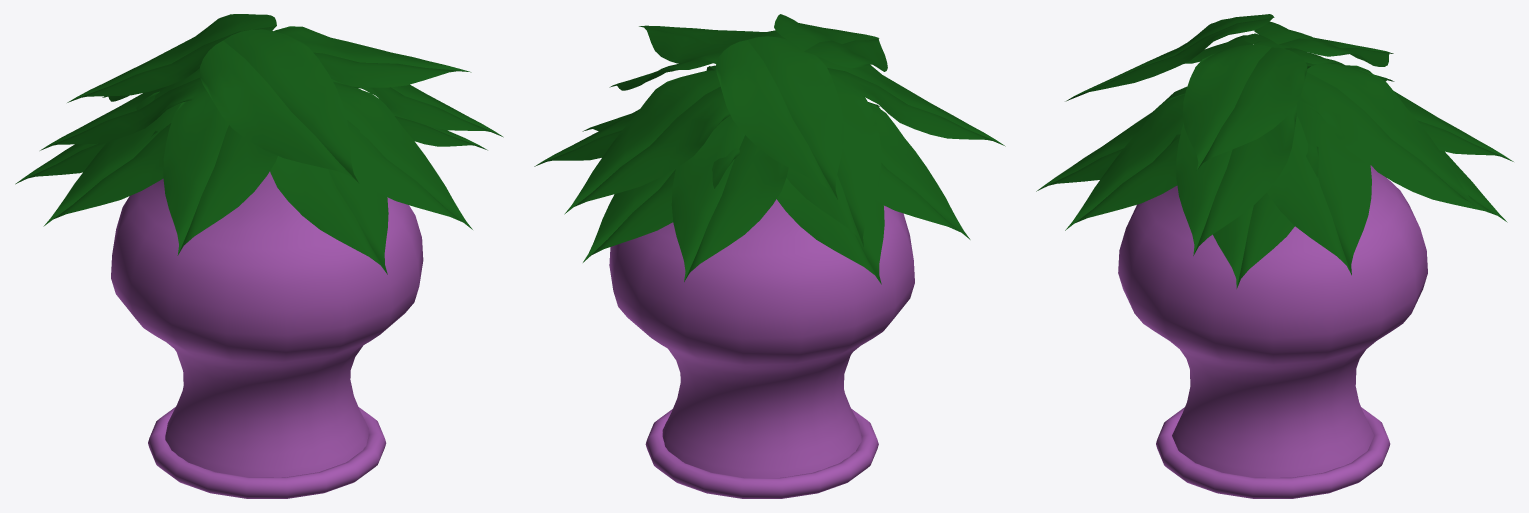
File: planta.FBX
The picture shows the model from 3 angles, left to right: view 1: azimuth 30°, elevation 25°; view 2: azimuth 150°, elevation 25°; view 3: azimuth 270°, elevation 25°; orthographic projection. The views are drawn at different scales.
Visible parts, largest first — view 1: Line001, Line015, Line013, Line006, Line002, Torus001, Line009, Line014, Line016, Line012, Line010, Line005 (+1 smaller); view 2: Line001, Line016, Line008, Line011, Line012, Torus001, Line009, Line013, Line004, Line005, Line015, Line014 (+2 smaller); view 3: Line001, Line011, Line014, Line007, Line010, Line006, Torus001, Line003, Line015, Line016, Line008, Line002 (+3 smaller).
Boxes of the visible parts, left/top/right/bottom form: Line001: left=111, top=171, right=423, bottom=477; Line015: left=199, top=29, right=358, bottom=182; Line013: left=163, top=91, right=277, bottom=255; Line006: left=333, top=82, right=472, bottom=229; Line002: left=270, top=130, right=388, bottom=274; Torus001: left=148, top=407, right=386, bottom=498; Line009: left=43, top=91, right=182, bottom=226; Line014: left=273, top=26, right=471, bottom=87; Line016: left=67, top=14, right=276, bottom=102; Line012: left=40, top=68, right=207, bottom=150; Line010: left=331, top=79, right=503, bottom=137; Line005: left=15, top=126, right=167, bottom=184; Line001: left=609, top=199, right=914, bottom=477; Line016: left=716, top=36, right=843, bottom=199; Line008: left=671, top=115, right=788, bottom=281; Line011: left=564, top=70, right=730, bottom=214; Line012: left=786, top=74, right=881, bottom=246; Torus001: left=645, top=409, right=878, bottom=498; Line009: left=869, top=103, right=970, bottom=239; Line013: left=818, top=56, right=1005, bottom=146; Line004: left=583, top=148, right=739, bottom=262; Line005: left=777, top=178, right=884, bottom=284; Line015: left=774, top=14, right=887, bottom=71; Line014: left=639, top=25, right=786, bottom=63; Line001: left=1118, top=165, right=1427, bottom=477; Line011: left=1299, top=63, right=1477, bottom=208; Line014: left=1182, top=44, right=1307, bottom=169; Line007: left=1267, top=98, right=1371, bottom=275; Line010: left=1176, top=104, right=1296, bottom=255; Line006: left=1065, top=93, right=1184, bottom=230; Torus001: left=1156, top=407, right=1390, bottom=498; Line003: left=1213, top=144, right=1318, bottom=288; Line015: left=1065, top=14, right=1274, bottom=101; Line016: left=1254, top=21, right=1393, bottom=66; Line008: left=1346, top=65, right=1513, bottom=161; Line002: left=1036, top=86, right=1186, bottom=191.
Bounding box in the file's own units: 900 × 875 × 899.
